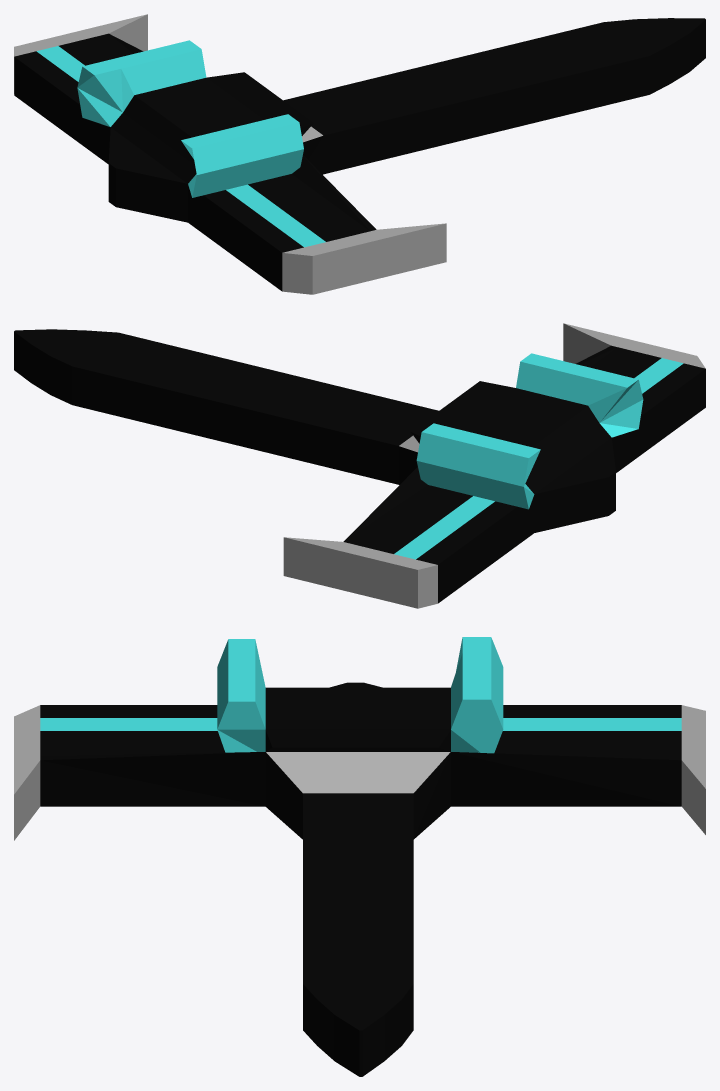
File: Ship.fbx
3 renders of one model, top to bottom at view 1: azimuth 30°, elevation 25°; view 2: azimuth 150°, elevation 25°; view 3: azimuth 270°, elevation 25°, orthographic. The views are drawn at different scales.
Visible parts, largest first — view 1: pCube1; view 2: pCube1; view 3: pCube1.
Boxes of the visible parts, bbox=[...] form: pCube1: bbox=[14, 14, 705, 294]; pCube1: bbox=[14, 323, 705, 608]; pCube1: bbox=[14, 637, 705, 1076].
Bounding box in the file's own units: 22.2 × 3.21 × 18.67.
